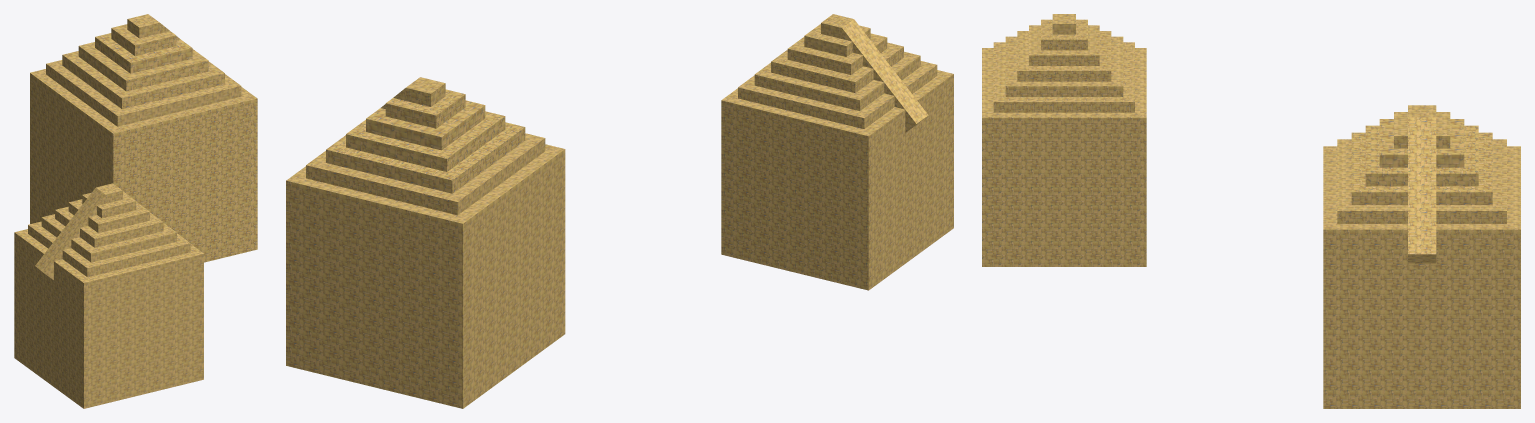
The model's file is BuildingsNormalMap.fbx.
3 renders of one model, left to right at view 1: azimuth 30°, elevation 25°; view 2: azimuth 150°, elevation 25°; view 3: azimuth 270°, elevation 25°, orthographic. The views are drawn at different scales.
Visible parts, largest first — view 1: B1_7, B2_7, B1_6, B1_5, B1_4, B2_6, B2_5, B1_3, B2_8, B2_4, B1_2, B2_3 (+3 smaller); view 2: B1_7, B2_7, B1_6, B1_5, B1_4, B2_6, B2_5, B1_3, B2_8, B2_4, B1_2, B2_3 (+2 smaller); view 3: B1_7, B2_7, B1_6, B1_8, B1_5, B2_6, B2_5, B1_4, B2_4, B1_3, B2_3, B2_2 (+2 smaller).
Boxes of the visible parts, x1=… form: B1_7: x1=30, y1=69, x2=257, y2=262; B2_7: x1=14, y1=229, x2=203, y2=408; B1_6: x1=46, y1=60, x2=241, y2=126; B1_5: x1=62, y1=51, x2=224, y2=108; B1_4: x1=78, y1=42, x2=208, y2=91; B2_6: x1=28, y1=221, x2=190, y2=277; B2_5: x1=41, y1=214, x2=176, y2=262; B1_3: x1=95, y1=33, x2=192, y2=73; B2_8: x1=35, y1=188, x2=105, y2=279; B2_4: x1=55, y1=206, x2=163, y2=247; B1_2: x1=111, y1=24, x2=176, y2=55; B2_3: x1=68, y1=199, x2=149, y2=232; B1_7: x1=286, y1=144, x2=565, y2=408; B2_7: x1=721, y1=70, x2=953, y2=290; B1_6: x1=306, y1=133, x2=545, y2=215; B1_5: x1=326, y1=122, x2=525, y2=193; B1_4: x1=346, y1=111, x2=505, y2=171; B2_6: x1=738, y1=61, x2=937, y2=128; B2_5: x1=754, y1=51, x2=920, y2=110; B1_3: x1=366, y1=100, x2=485, y2=150; B2_8: x1=842, y1=19, x2=928, y2=132; B2_4: x1=771, y1=42, x2=903, y2=92; B1_2: x1=385, y1=89, x2=465, y2=128; B2_3: x1=787, y1=33, x2=887, y2=74; B1_7: x1=1323, y1=146, x2=1520, y2=408; B2_7: x1=982, y1=48, x2=1146, y2=266; B1_6: x1=1337, y1=139, x2=1506, y2=223; B1_8: x1=1408, y1=117, x2=1436, y2=263; B1_5: x1=1351, y1=132, x2=1492, y2=204; B2_6: x1=993, y1=42, x2=1134, y2=112; B2_5: x1=1005, y1=36, x2=1123, y2=96; B1_4: x1=1365, y1=125, x2=1478, y2=186; B2_4: x1=1017, y1=31, x2=1111, y2=81; B1_3: x1=1379, y1=119, x2=1464, y2=167; B2_3: x1=1029, y1=25, x2=1099, y2=65; B2_2: x1=1041, y1=19, x2=1087, y2=50.
Size of what is drawn, in the model's own units: 990 by 600 by 1145.
